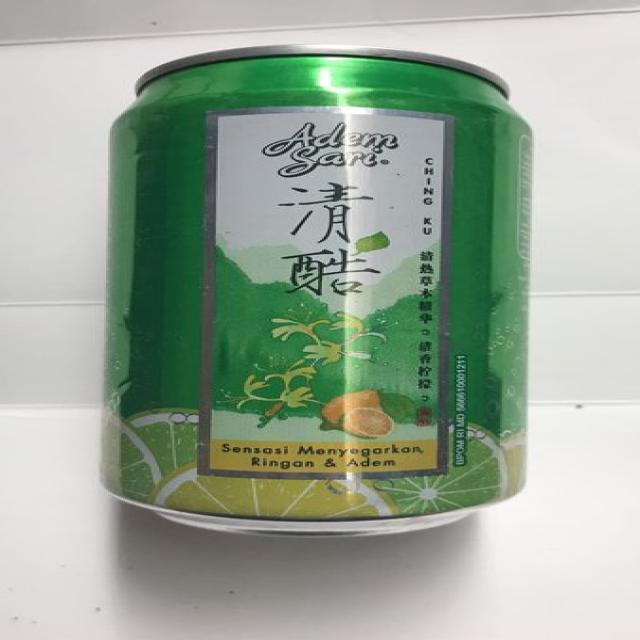ademsarikaleng: (97, 42, 534, 538)
